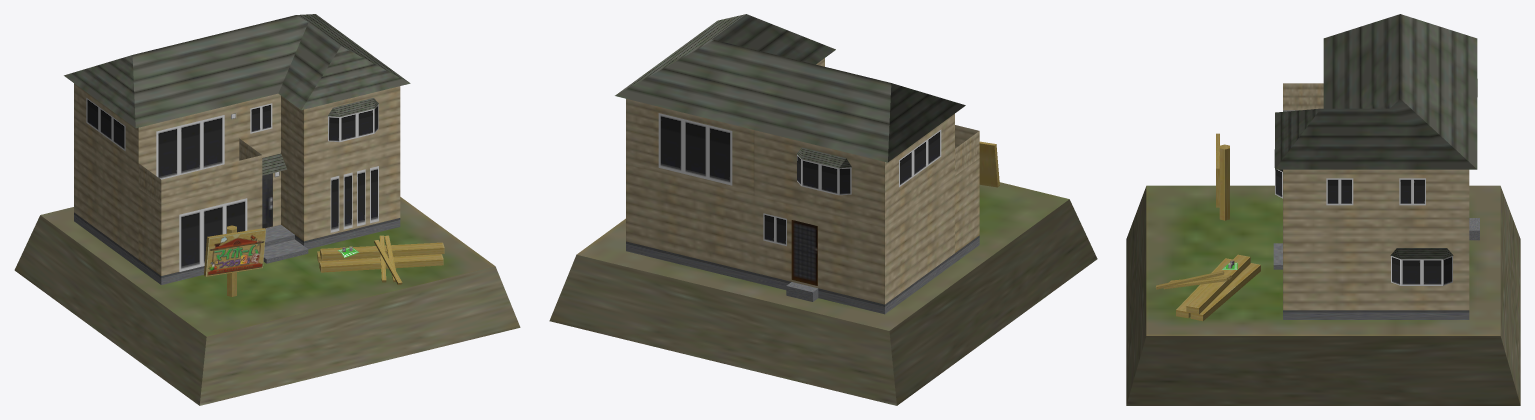
File: ico1.ico.obj
The picture shows the model from 3 angles, left to right: view 1: azimuth 30°, elevation 25°; view 2: azimuth 150°, elevation 25°; view 3: azimuth 270°, elevation 25°; orthographic projection. The views are drawn at different scales.
Bounding box in the file's own units: 4.9 × 3.53 × 4.9.
1 material, 1 textured.
